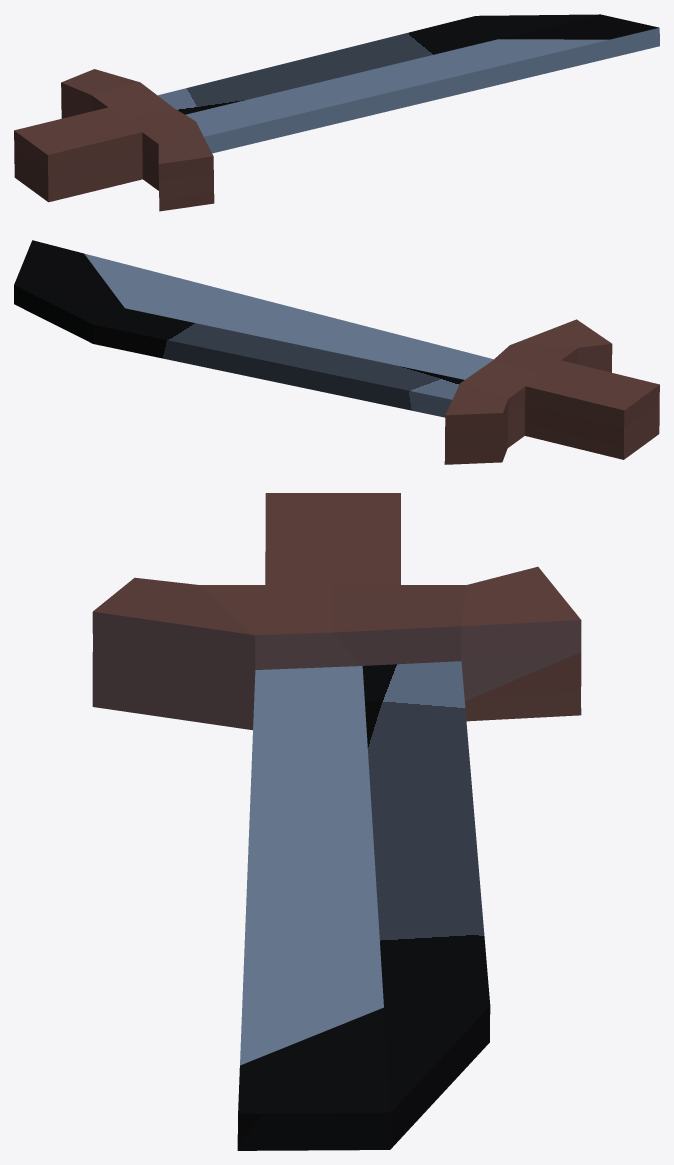
File: Sword.fbx
The picture shows the model from 3 angles, top to bottom: view 1: azimuth 30°, elevation 25°; view 2: azimuth 150°, elevation 25°; view 3: azimuth 270°, elevation 25°; orthographic projection. The views are drawn at different scales.
Parts seen in each view (by area): view 1: Sword; view 2: Sword; view 3: Sword.
Part boxes in pixels (x1,y1,x2,y2): Sword: [14, 14, 659, 211]; Sword: [14, 240, 659, 464]; Sword: [92, 493, 581, 1150].
Size of the model in its own units: 103 by 8.83 by 35.91.
